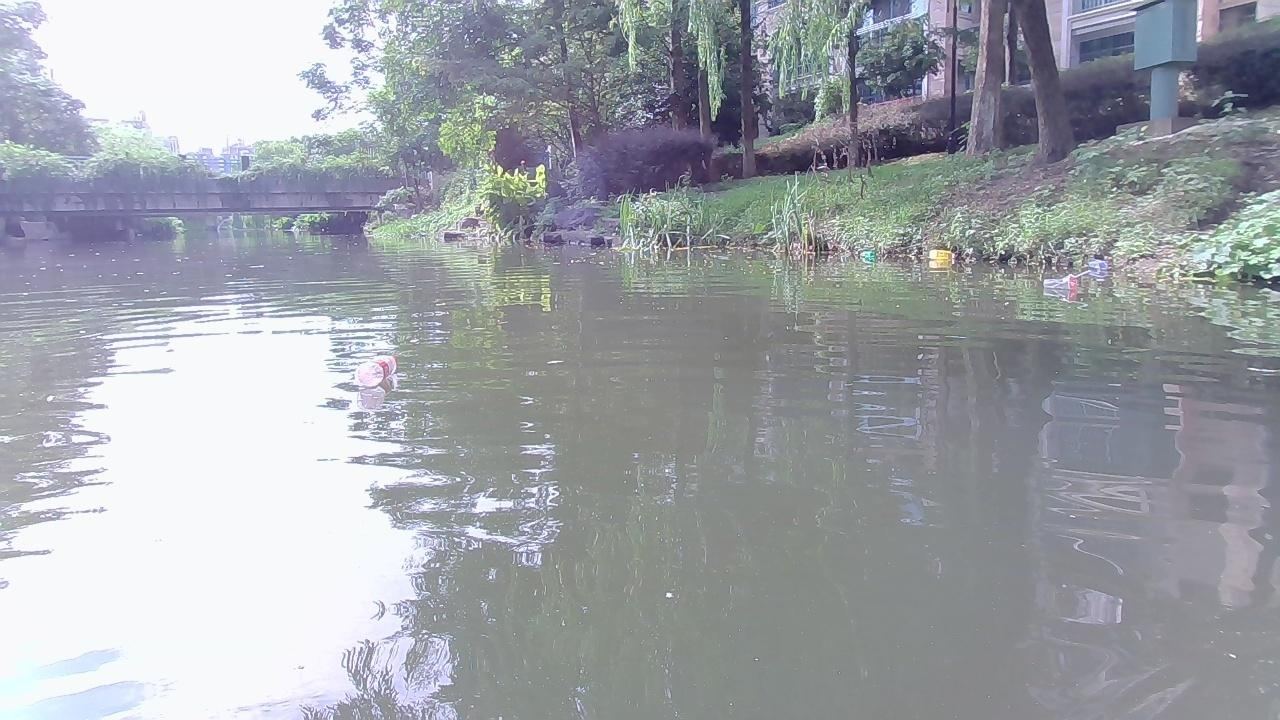bottle: (354, 351, 399, 384), (1040, 277, 1080, 294), (926, 247, 955, 263), (1088, 262, 1109, 276), (860, 250, 877, 262)
